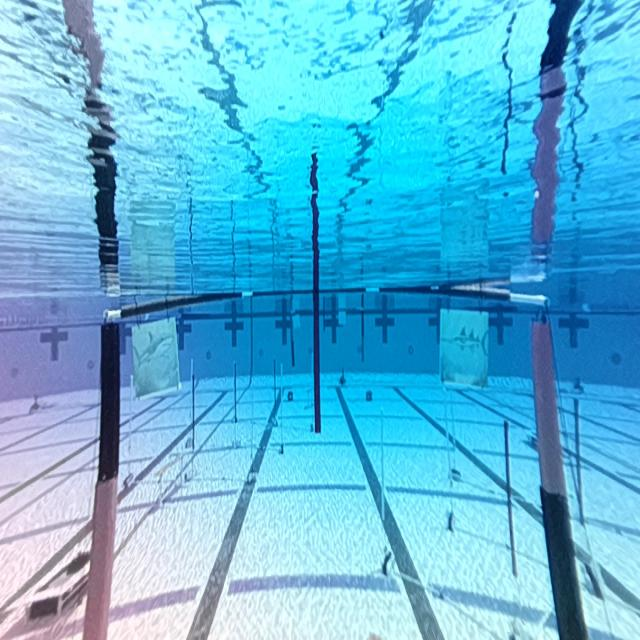pointed_nose: (441, 320, 491, 378)
round_nose: (130, 322, 179, 392)
